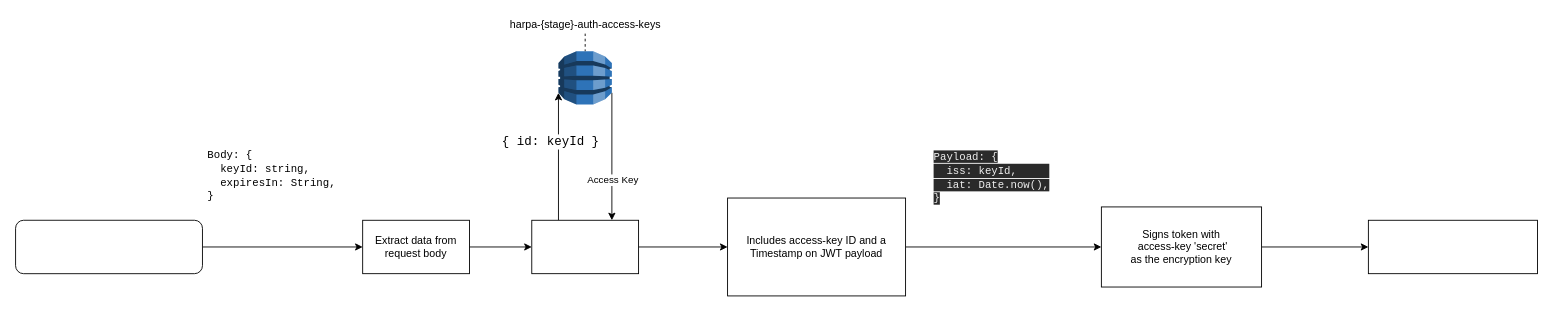
Some shapes in this 1553 by 312 pixel diagram are drawn without their labels. The shapes that lost their labels are listed below. From the top down, each one's centre as x and y in pixels, then its label:
[108,246]: POST /access-keys/{accessKeyId}/token
[585,246]: Find access-key by keyId on dynamo
[1452,246]: Returns JWT string
